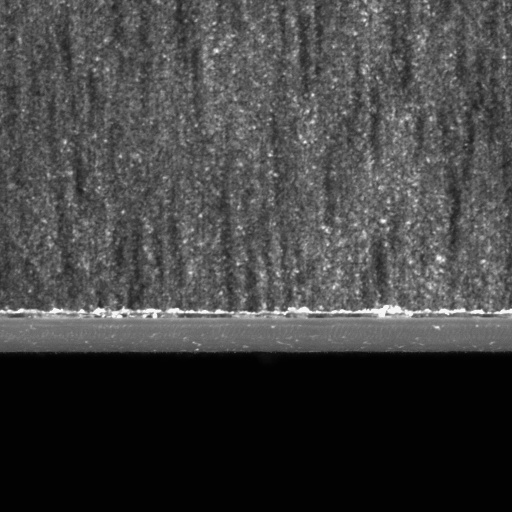jiaofeng: (106, 307, 233, 323), (289, 309, 378, 321), (408, 310, 503, 321)
